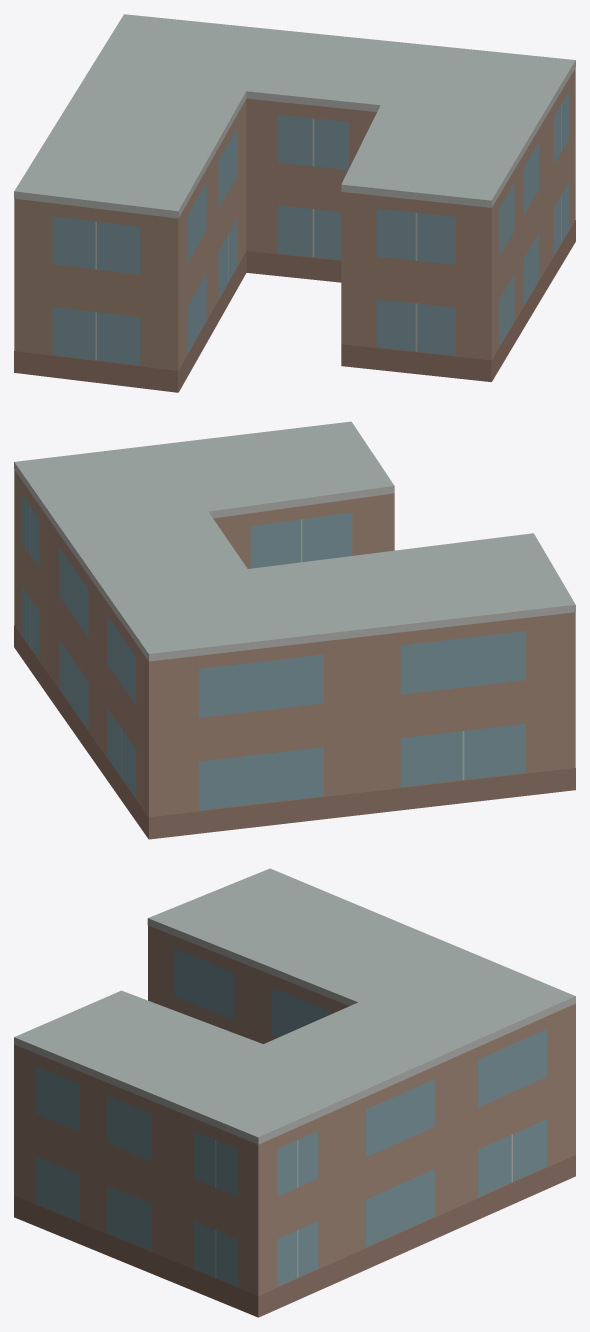
The model's file is survey-upis-32761319.glb.
3 renders of one model, top to bottom at view 1: azimuth 30°, elevation 25°; view 2: azimuth 150°, elevation 25°; view 3: azimuth 270°, elevation 25°, orthographic. The views are drawn at different scales.
Visible parts, largest first — view 1: survey-upis-32761319.tmp; view 2: survey-upis-32761319.tmp; view 3: survey-upis-32761319.tmp.
Part boxes in pixels (x1,y1,x2,y2): survey-upis-32761319.tmp: [14, 14, 575, 392]; survey-upis-32761319.tmp: [14, 421, 575, 839]; survey-upis-32761319.tmp: [14, 868, 575, 1317].
Size of the model in its own units: 19.56 by 6.1 by 17.26.
